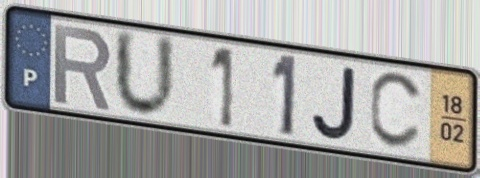1: (268, 52, 298, 141), (207, 45, 236, 131)
C: (367, 70, 427, 154)
J: (309, 63, 358, 143)
R: (51, 20, 115, 113)
U: (112, 25, 179, 123)
